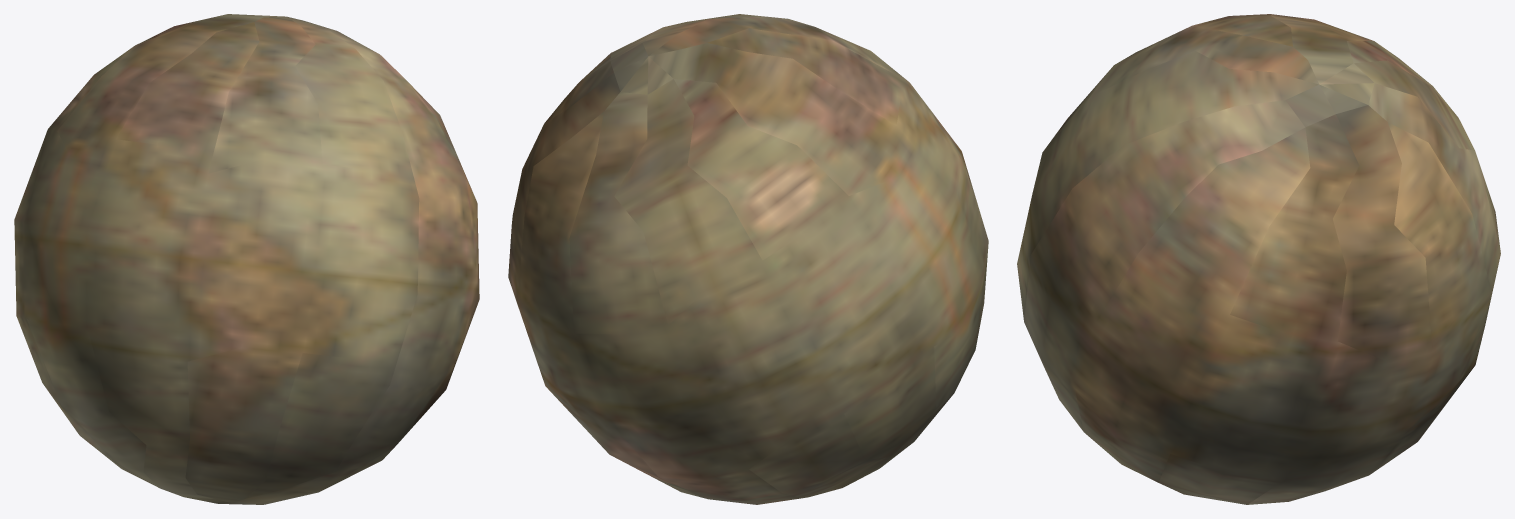
The model's file is globe-atlas-figure.lod1.glb.
3 renders of one model, left to right at view 1: azimuth 30°, elevation 25°; view 2: azimuth 150°, elevation 25°; view 3: azimuth 270°, elevation 25°, orthographic. The views are drawn at different scales.
Parts seen in each view (by area): view 1: globe-atlas-figure; view 2: globe-atlas-figure; view 3: globe-atlas-figure.
Part boxes in pixels (x1,y1,x2,y2): globe-atlas-figure: (14, 14, 479, 504); globe-atlas-figure: (508, 14, 988, 504); globe-atlas-figure: (1017, 14, 1500, 504).
Bounding box in the file's own units: 0.2829 × 0.2937 × 0.285.
Materials: 1 (1 with a texture image).
